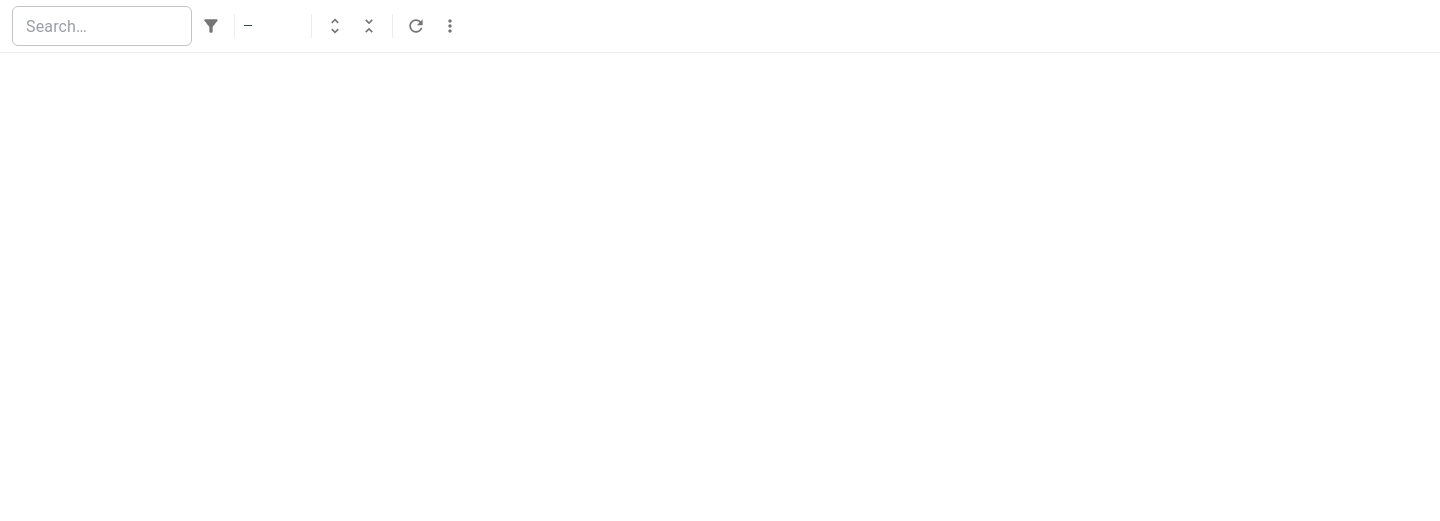
Test: HierarchyToolbar — narrow viewport folds Density/Columns/Legend into "More actions" › reveals Density/Columns/Legend inside "More actions" and each still works
What coordinates should you click on to do the following:
click the button named "more actions"
I would click on:
 (450, 26)
Its box is [435,11,465,41].
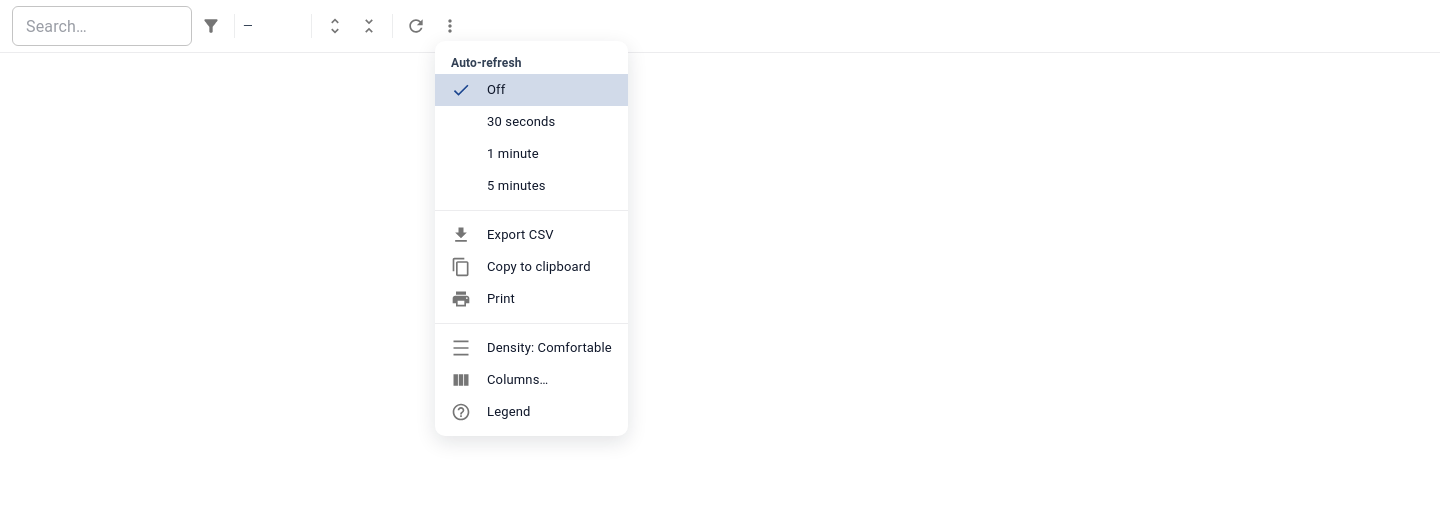
Result: the menu item "Density: Comfortable" is shown at [451,338,612,358]
Result: the menu item "Columns…" is shown
Result: the menu item "Legend" is shown at [451,402,530,422]
What coordinates should you click on to do the following:
click the menu item "Columns…"
I would click on:
 (500, 380)
Its box is [451,370,548,390].
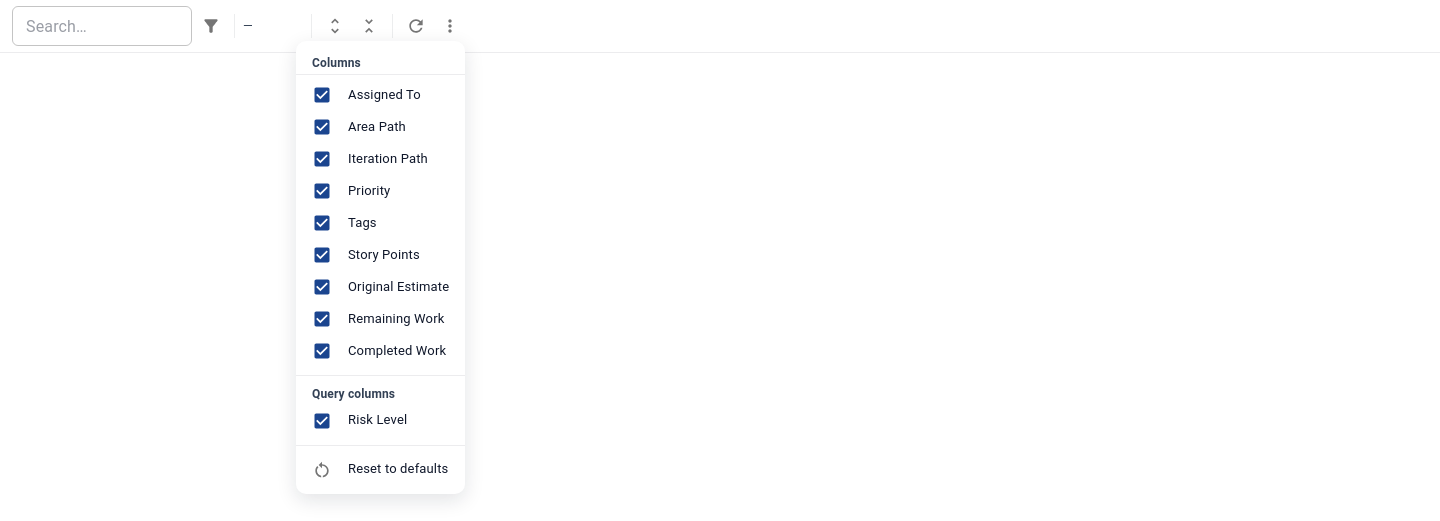
Result: the text "Query columns" is shown at [312,387,395,401]
